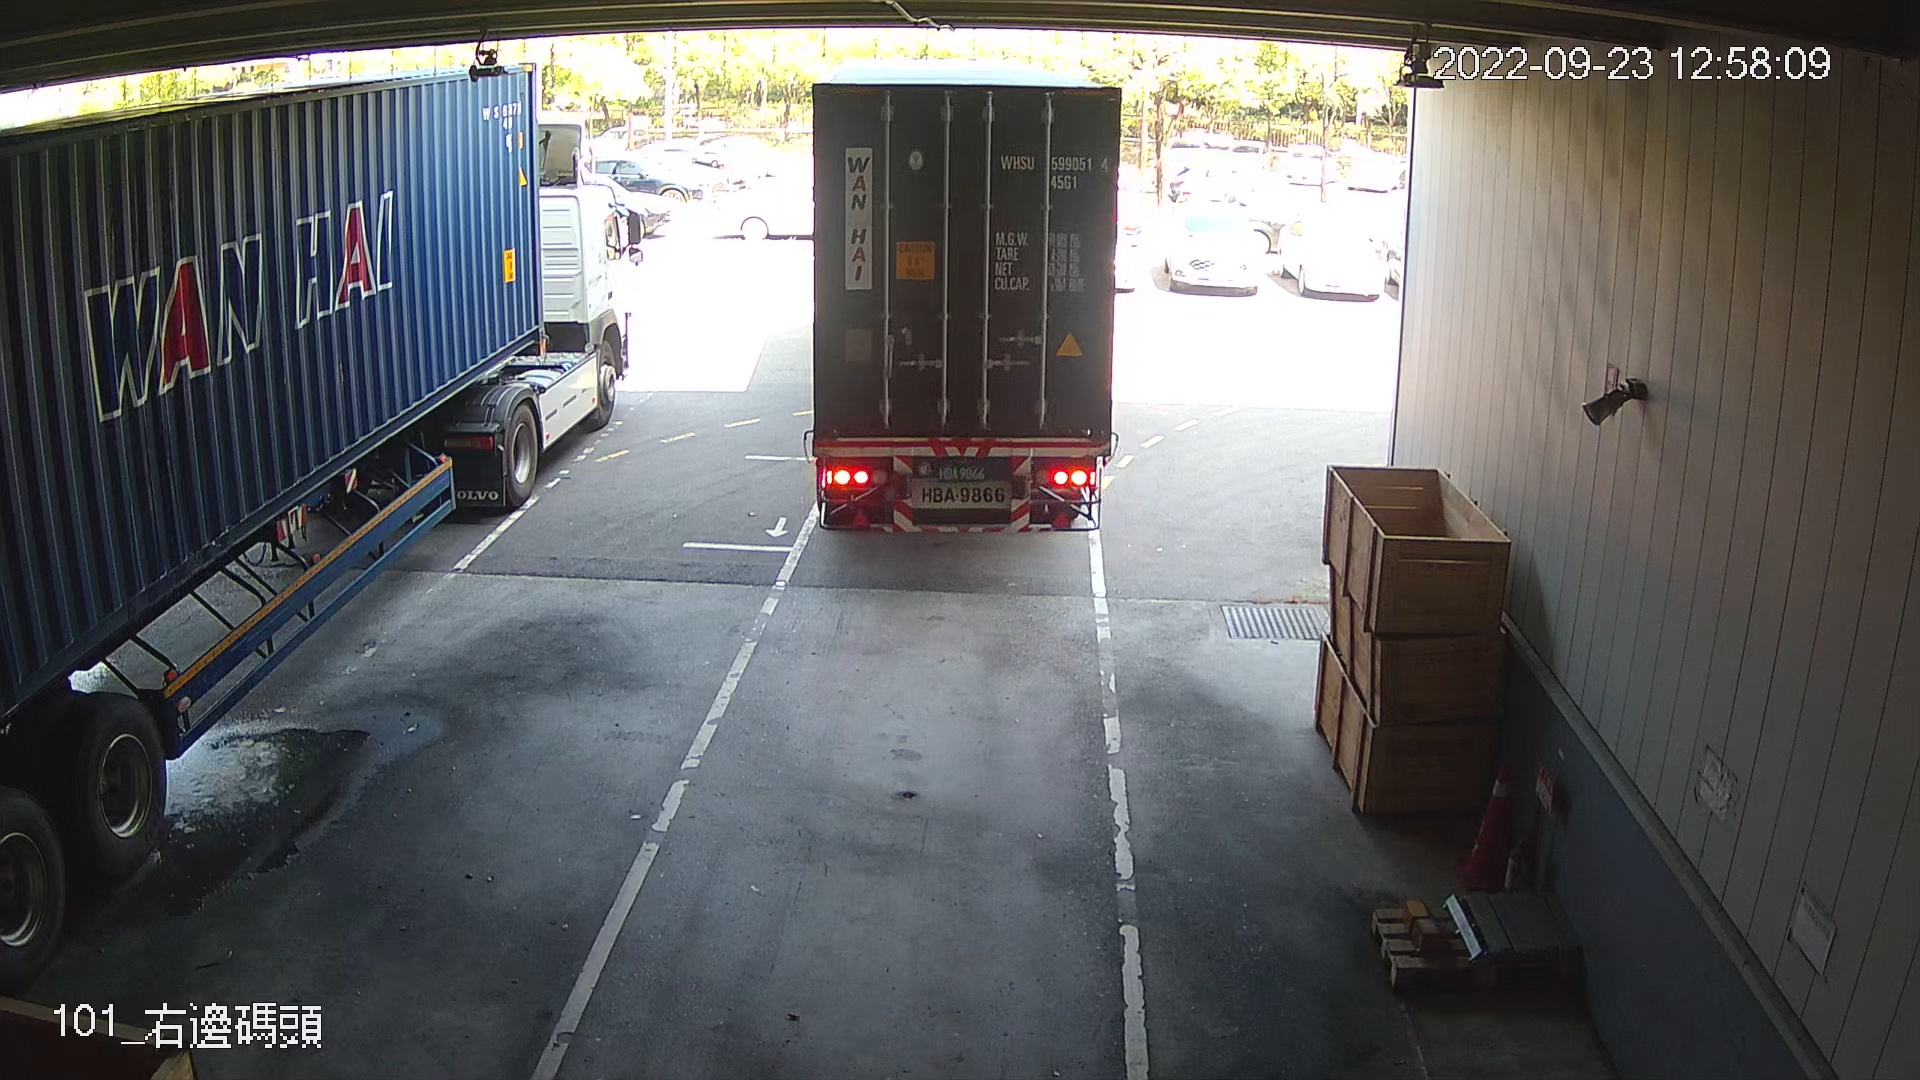container: (994, 146, 1110, 198)
